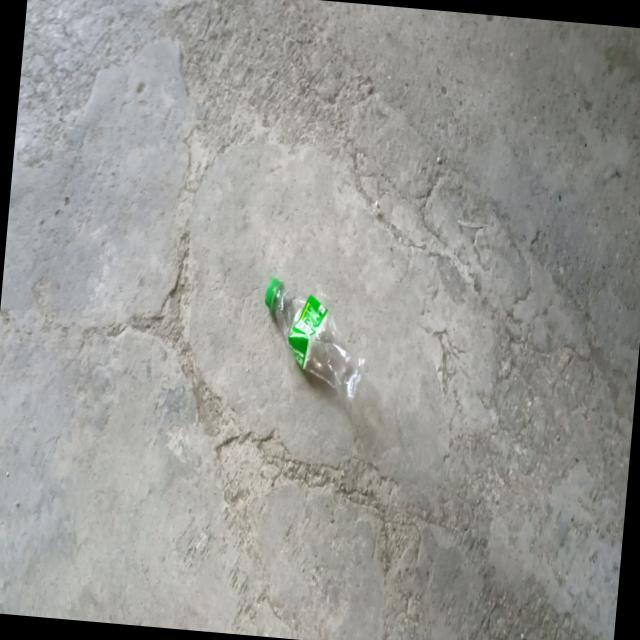Bottle: (264, 277, 362, 412)
